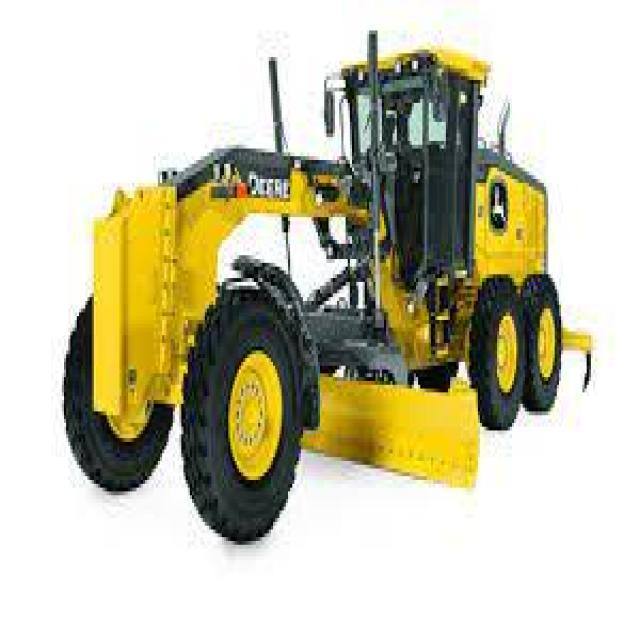buldozerpayloadergrader: (55, 19, 638, 549)
